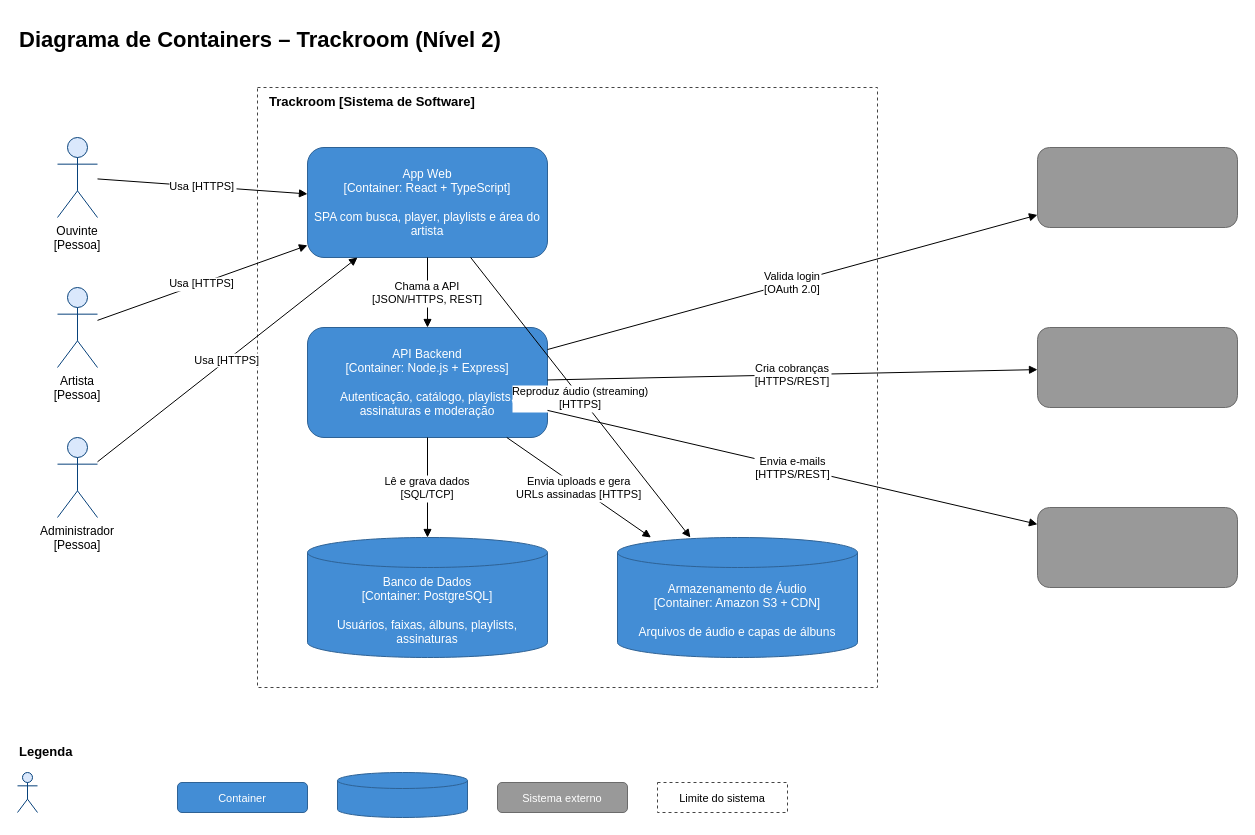
Some shapes in this 1255 by 835 pixel diagram are drawn without their labels. The centre of each missing label's shape, as x and y in pixels:
"Banco / Storage" goes at point 402,795.
"Google OAuth [Sistema Externo] Login social" goes at point 1137,187.
"Pessoa" goes at point 27,792.
"SendGrid [Sistema Externo] E-mails" goes at point 1137,547.
"Stripe [Sistema Externo] Pagamentos" goes at point 1137,367.
